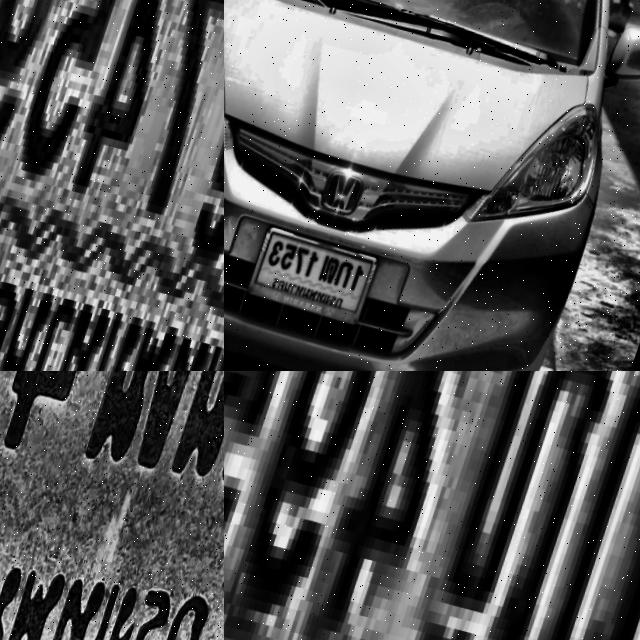license-plate: (224, 371, 640, 640), (0, 0, 224, 371), (0, 371, 224, 640), (244, 216, 395, 329)
